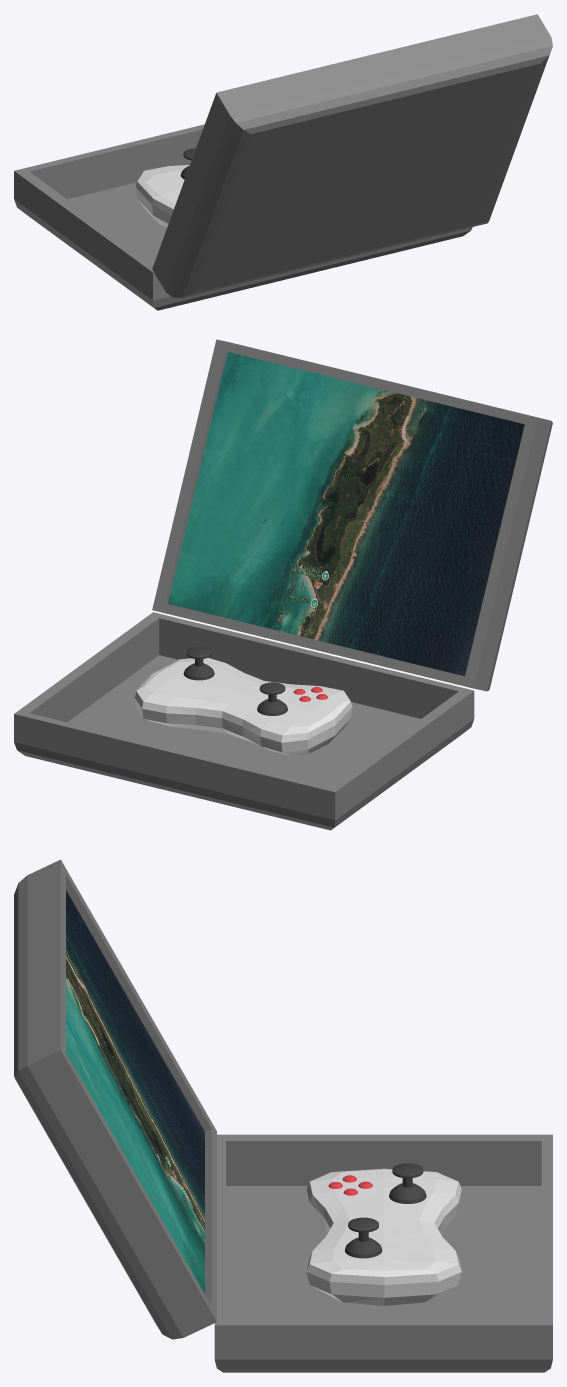
Rendered from ComputerSubmarine.fbx.
3 renders of one model, top to bottom at view 1: azimuth 30°, elevation 25°; view 2: azimuth 150°, elevation 25°; view 3: azimuth 270°, elevation 25°, orthographic. The views are drawn at different scales.
Parts seen in each view (by area): view 1: ComputerScreenBase, ComputerBase, ControllerBase; view 2: ComputerScreen, ComputerBase, ComputerScreenBase, ControllerBase, ControllerJoysticks; view 3: ComputerBase, ComputerScreenBase, ComputerScreen, ControllerBase, ControllerJoysticks.
Boxes of the visible parts, x1,y1,x2,y2 form: ComputerScreenBase: (152,14,552,297); ComputerBase: (14,124,472,310); ControllerBase: (135,165,189,227); ComputerScreen: (168,352,524,676); ComputerBase: (14,612,474,830); ComputerScreenBase: (152,339,552,691); ControllerBase: (134,658,352,755); ControllerJoysticks: (183,646,287,715); ComputerBase: (214,1134,552,1372); ComputerScreenBase: (14,859,216,1339); ComputerScreen: (66,890,204,1293); ControllerBase: (306,1168,461,1305); ControllerJoysticks: (345,1163,426,1258).
Bounding box in the file's own units: 0.6 × 0.484 × 0.7169.
